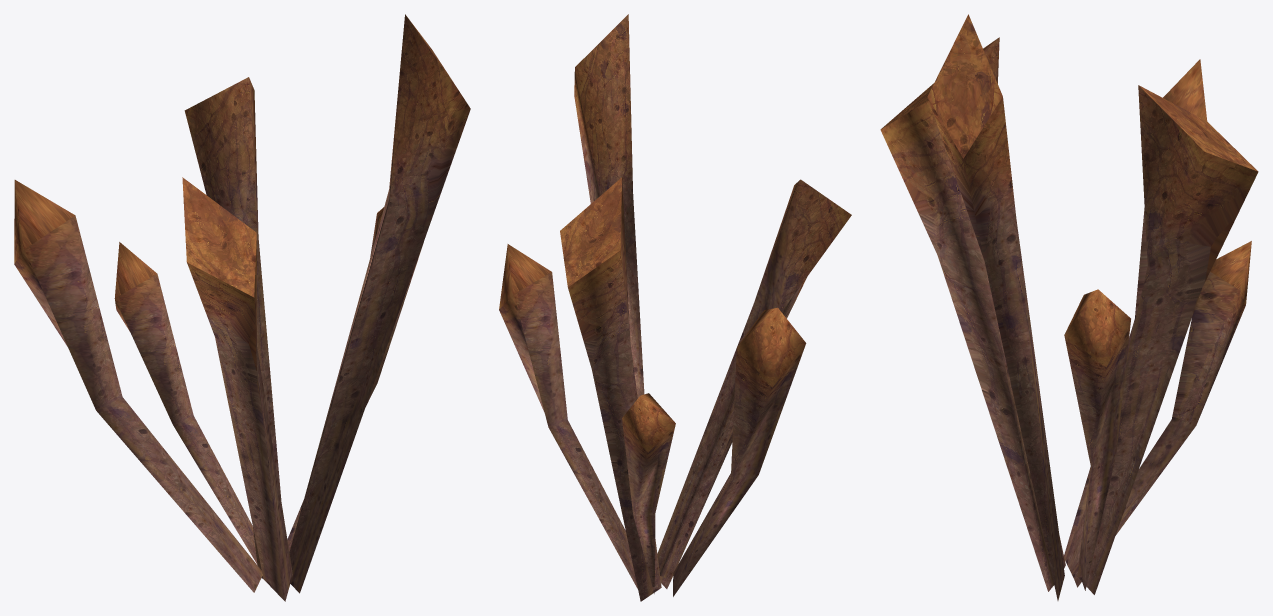
Rendered from Shroom_Plant2_3_L3.fbx.
3 views of the same model, side by side, from view 1: azimuth 30°, elevation 25°; view 2: azimuth 150°, elevation 25°; view 3: azimuth 270°, elevation 25° (orthographic). The views are drawn at different scales.
Visible parts, largest first — view 1: polySurface293; view 2: polySurface293; view 3: polySurface293.
Boxes of the visible parts, <box> form: polySurface293: <box>14,14,470,601</box>; polySurface293: <box>499,14,851,601</box>; polySurface293: <box>880,14,1258,600</box>.
Bounding box in the file's own units: 60.56 × 93.63 × 51.79.
